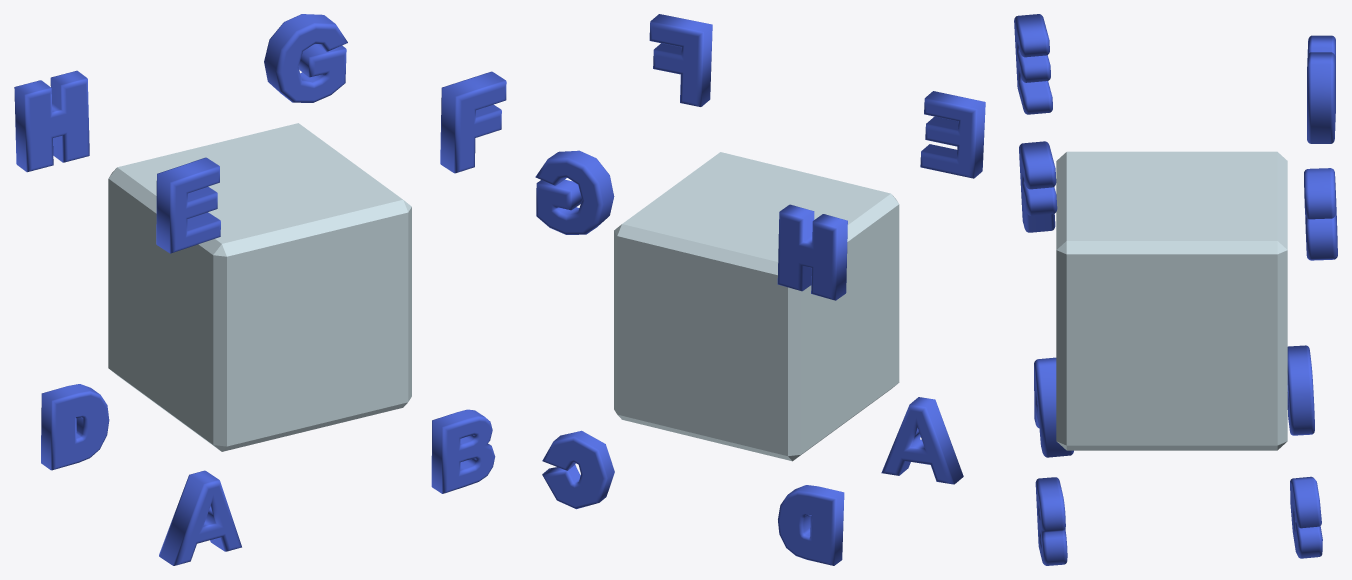
The model's file is kubustr2.glb.
3 renders of one model, left to right at view 1: azimuth 30°, elevation 25°; view 2: azimuth 150°, elevation 25°; view 3: azimuth 270°, elevation 25°, orthographic. The views are drawn at different scales.
Visible parts, largest first — view 1: Cube, Text.007, Text.006, Text.004, Text.003, Text.005, Text.009, Text.001; view 2: Cube, Text.007, Text.006, Text.004, Text.003, Text.005, Text.002, Text.009; view 3: Cube, Text.004, Text.007, Text.005, Text.006, Text.001, Text.002, Text.003, Text.009.
Part boxes in pixels (x1=…): Cube: x1=108, y1=123, x2=411, y2=451; Text.007: x1=14, y1=70, x2=89, y2=172; Text.006: x1=264, y1=14, x2=347, y2=102; Text.004: x1=156, y1=157, x2=220, y2=253; Text.003: x1=41, y1=384, x2=109, y2=470; Text.005: x1=440, y1=71, x2=506, y2=173; Text.009: x1=159, y1=470, x2=241, y2=565; Text.001: x1=431, y1=409, x2=495, y2=493; Cube: x1=614, y1=152, x2=899, y2=461; Text.007: x1=777, y1=204, x2=847, y2=300; Text.006: x1=535, y1=150, x2=614, y2=234; Text.004: x1=920, y1=91, x2=985, y2=178; Text.003: x1=778, y1=485, x2=844, y2=565; Text.005: x1=649, y1=14, x2=712, y2=106; Text.002: x1=542, y1=430, x2=614, y2=509; Text.009: x1=881, y1=397, x2=963, y2=484; Cube: x1=1056, y1=151, x2=1287, y2=450; Text.004: x1=1014, y1=14, x2=1052, y2=114; Text.007: x1=1307, y1=35, x2=1335, y2=143; Text.005: x1=1019, y1=141, x2=1057, y2=232; Text.006: x1=1304, y1=168, x2=1337, y2=260; Text.001: x1=1035, y1=477, x2=1067, y2=565; Text.002: x1=1290, y1=476, x2=1322, y2=558; Text.003: x1=1287, y1=345, x2=1314, y2=435; Text.009: x1=1034, y1=357, x2=1073, y2=457.
Bounding box in the file's own units: 3.46 × 3.96 × 2.8.
